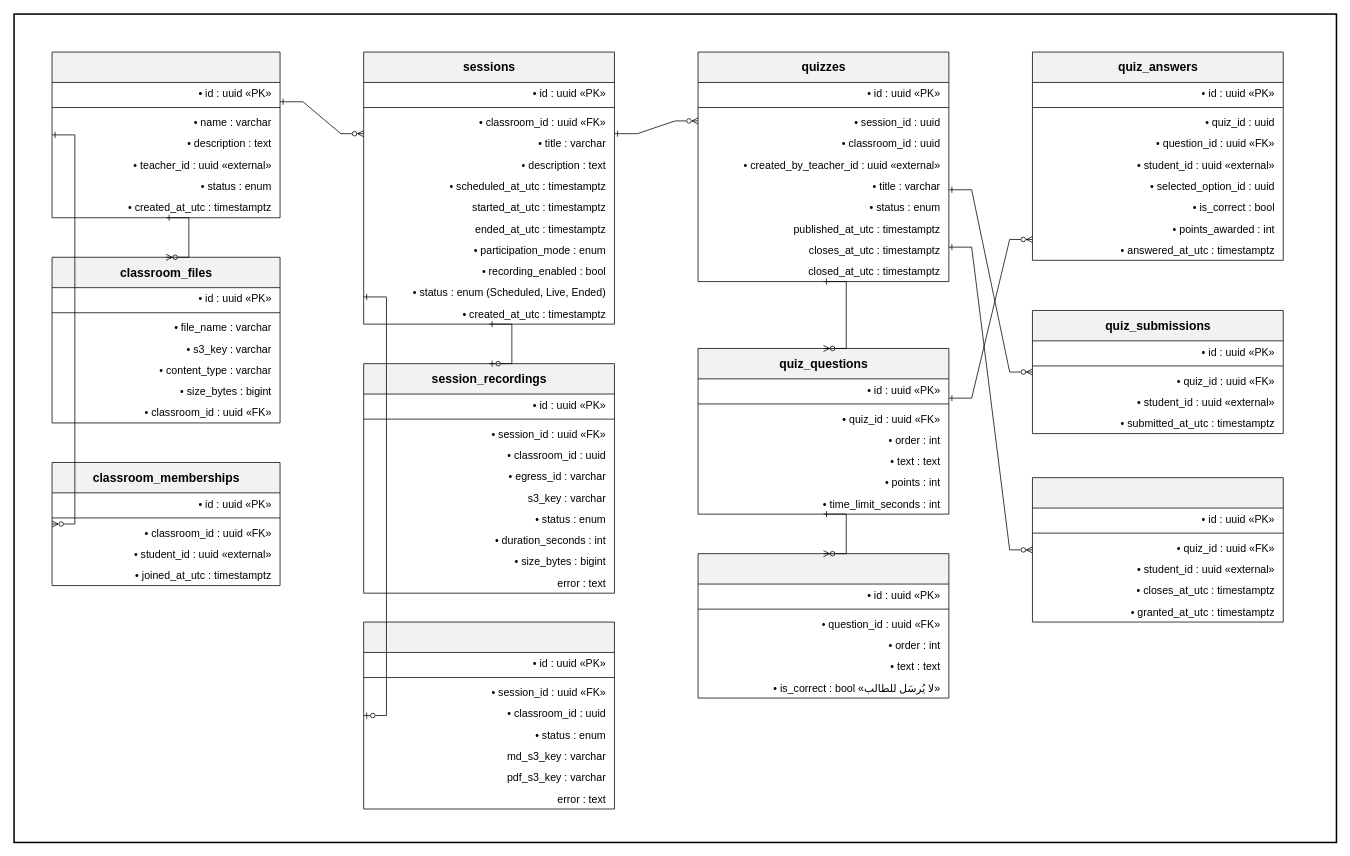
Image size: 1350x856. Some labels were removed from this diagram. The shapes that lost their labels are listed below. From the top down, each one's box as (x1, y1, x2, y2) in pixels, then its label:
(51, 51, 280, 218): classrooms
(1032, 477, 1283, 622): quiz_extensions
(697, 553, 949, 698): quiz_answer_options
(363, 621, 614, 809): session_summaries
